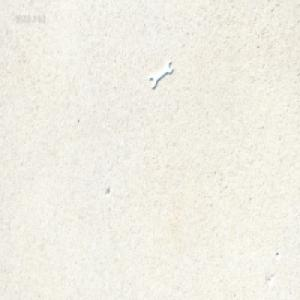Wrench: (149, 58, 173, 88)
